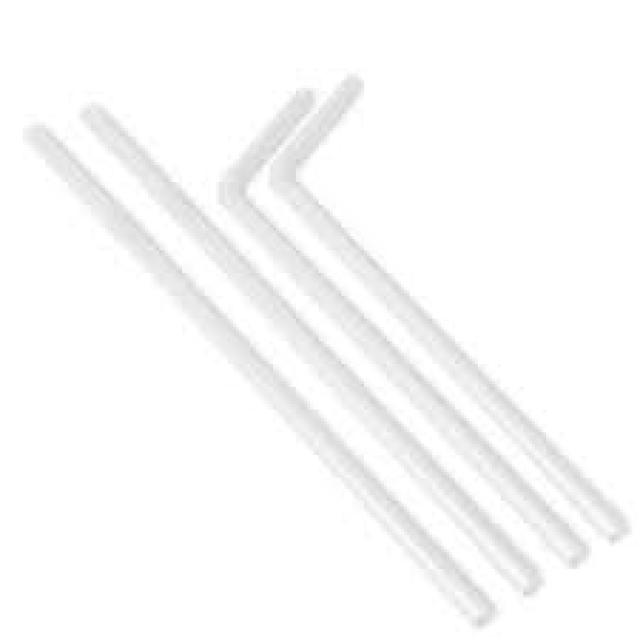straw: (26, 126, 494, 621), (84, 109, 539, 591), (271, 75, 628, 538)
